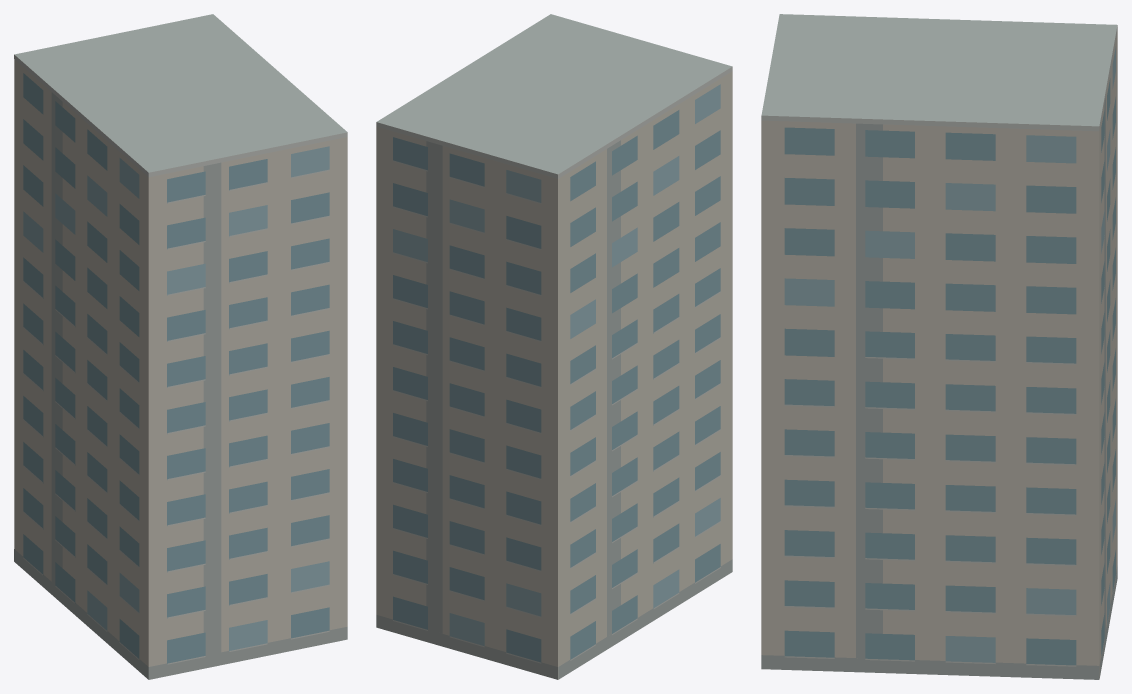
File: residential-1d16eb28-cf5f-4c48-ab42-7188bb466aa1.glb
The picture shows the model from 3 angles, left to right: view 1: azimuth 30°, elevation 25°; view 2: azimuth 150°, elevation 25°; view 3: azimuth 270°, elevation 25°; orthographic projection. The views are drawn at different scales.
Visible parts, largest first — view 1: residential-1d16eb28-cf5f-4c48-ab42-7188bb466aa1.tmp; view 2: residential-1d16eb28-cf5f-4c48-ab42-7188bb466aa1.tmp; view 3: residential-1d16eb28-cf5f-4c48-ab42-7188bb466aa1.tmp.
Boxes of the visible parts, box(x1,y1,x2,y2) form: residential-1d16eb28-cf5f-4c48-ab42-7188bb466aa1.tmp: box(14, 14, 347, 679); residential-1d16eb28-cf5f-4c48-ab42-7188bb466aa1.tmp: box(376, 14, 732, 679); residential-1d16eb28-cf5f-4c48-ab42-7188bb466aa1.tmp: box(761, 14, 1117, 679).
Bounding box in the file's own units: 11.76 × 27 × 15.75.
